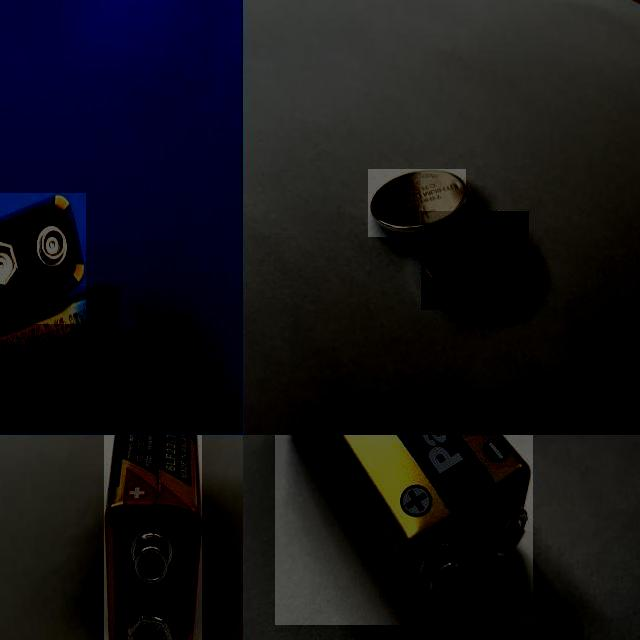9V: (275, 435, 532, 624), (104, 435, 202, 640), (0, 286, 121, 417), (0, 193, 85, 324)
